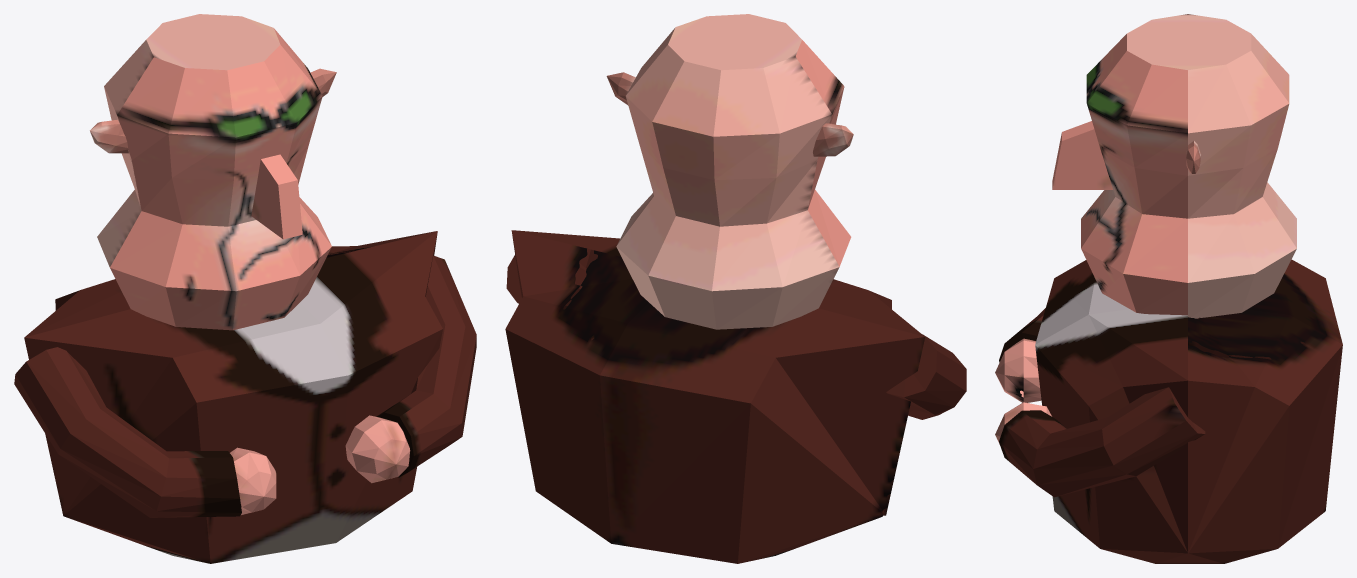
File: Man.glb
The picture shows the model from 3 angles, left to right: view 1: azimuth 30°, elevation 25°; view 2: azimuth 150°, elevation 25°; view 3: azimuth 270°, elevation 25°; orthographic projection. The views are drawn at different scales.
Visible parts, largest first — view 1: Man; view 2: Man; view 3: Man.
Part boxes in pixels (bbox=[...]): Man: bbox=[14, 14, 476, 563]; Man: bbox=[505, 14, 966, 563]; Man: bbox=[995, 14, 1342, 563].
Bounding box in the file's own units: 300 × 325 × 220.
1 material, 1 textured.
